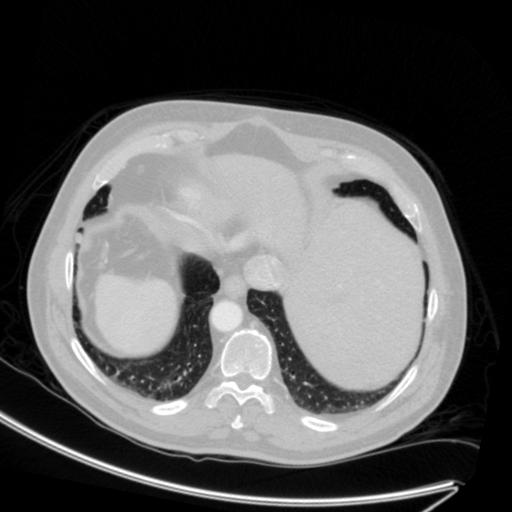nodule: (73, 231, 89, 247)
